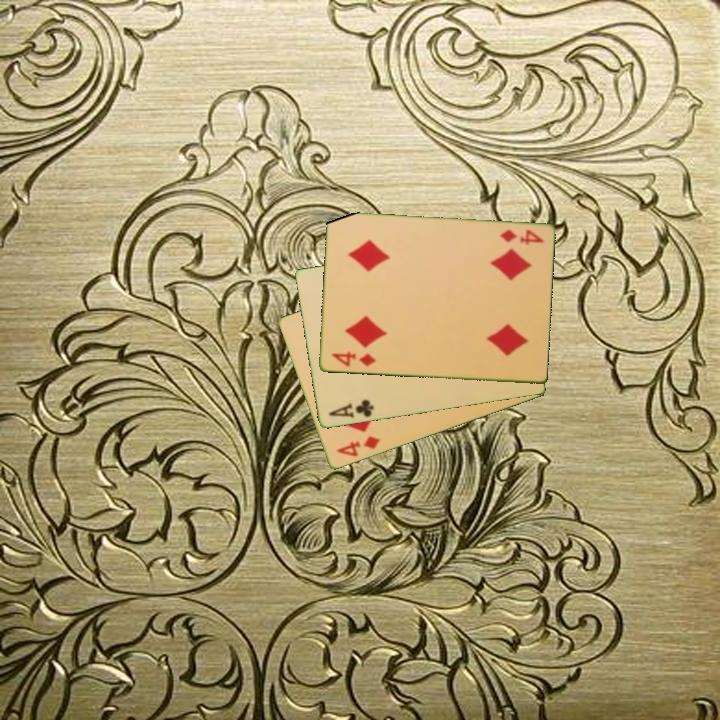4d: (333, 433, 383, 460), (328, 348, 378, 370), (496, 226, 546, 248)
Ac: (325, 396, 376, 422)
